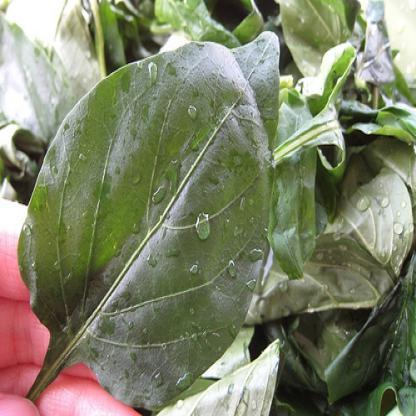Bell_pepper leaf spot: (16, 28, 283, 406)
